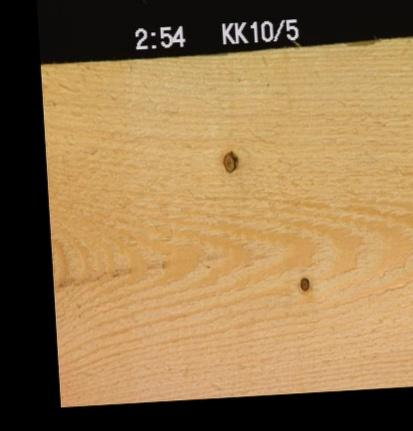dry_knot: (220, 148, 238, 173), (297, 275, 309, 292)
